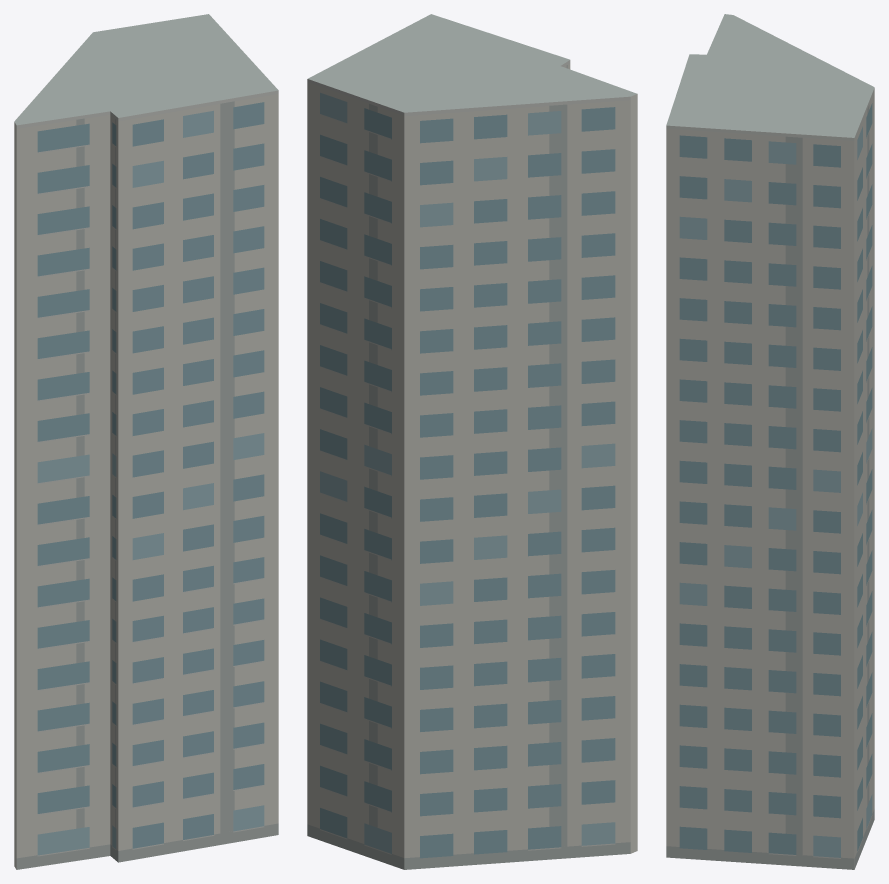
The model's file is survey-upis-32679438.glb.
3 renders of one model, left to right at view 1: azimuth 30°, elevation 25°; view 2: azimuth 150°, elevation 25°; view 3: azimuth 270°, elevation 25°, orthographic. The views are drawn at different scales.
Parts seen in each view (by area): view 1: survey-upis-32679438.tmp; view 2: survey-upis-32679438.tmp; view 3: survey-upis-32679438.tmp.
Boxes of the visible parts, box(x1,y1,x2,y2) form: survey-upis-32679438.tmp: box(14, 14, 278, 869); survey-upis-32679438.tmp: box(307, 14, 637, 869); survey-upis-32679438.tmp: box(666, 14, 874, 869).
Bounding box in the file's own units: 19.95 × 54.9 × 14.18.
